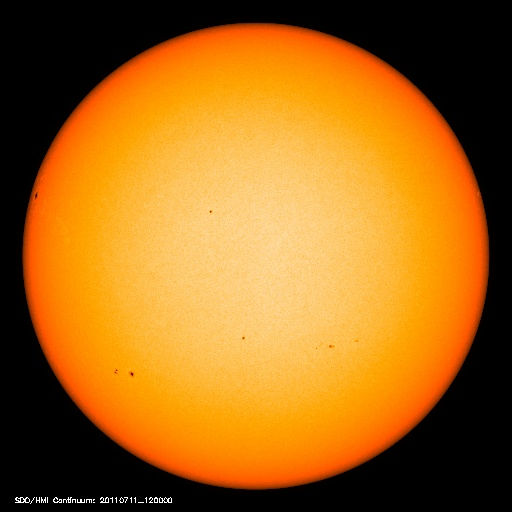sunspot: (307, 331, 363, 361), (106, 359, 142, 387), (27, 180, 50, 211), (232, 327, 256, 351), (200, 200, 221, 223)
